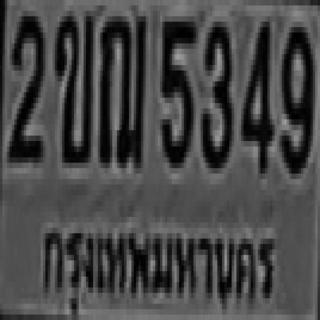A02: (53, 8, 91, 160)
A12: (95, 11, 146, 163)
N02: (6, 11, 44, 157)
N03: (200, 16, 230, 163)
N04: (240, 16, 271, 168)
N05: (160, 11, 194, 163)
N09: (280, 22, 310, 168)
P04: (37, 207, 278, 320)
